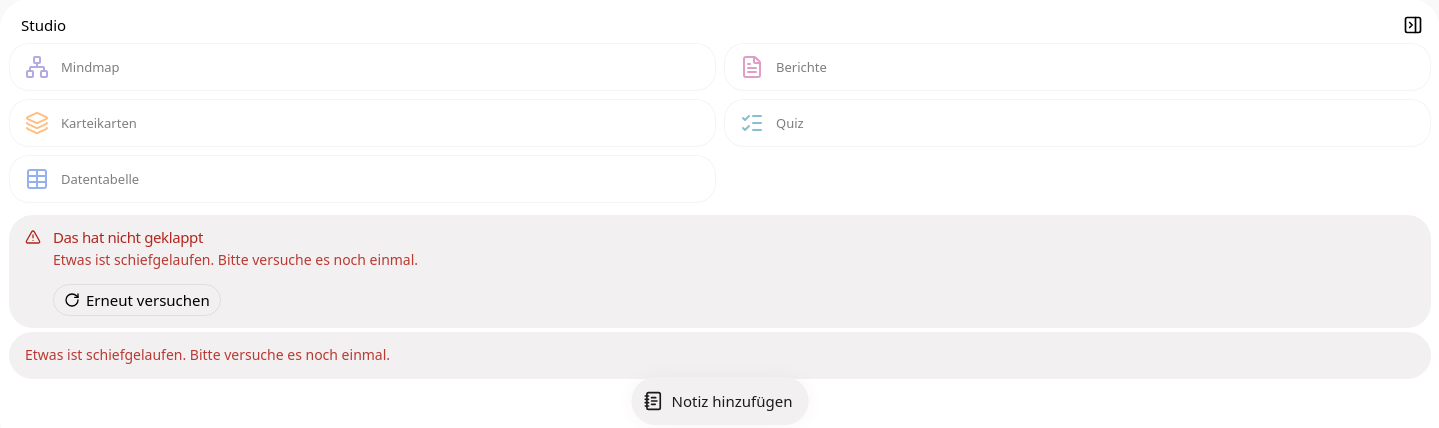
Test: StudioPanel › keeps the tooltip of a tile that cannot be used yet
The image size is (1439, 428).
Hover over the element showing "Mindmap": (362,67) [9,43,716,91]
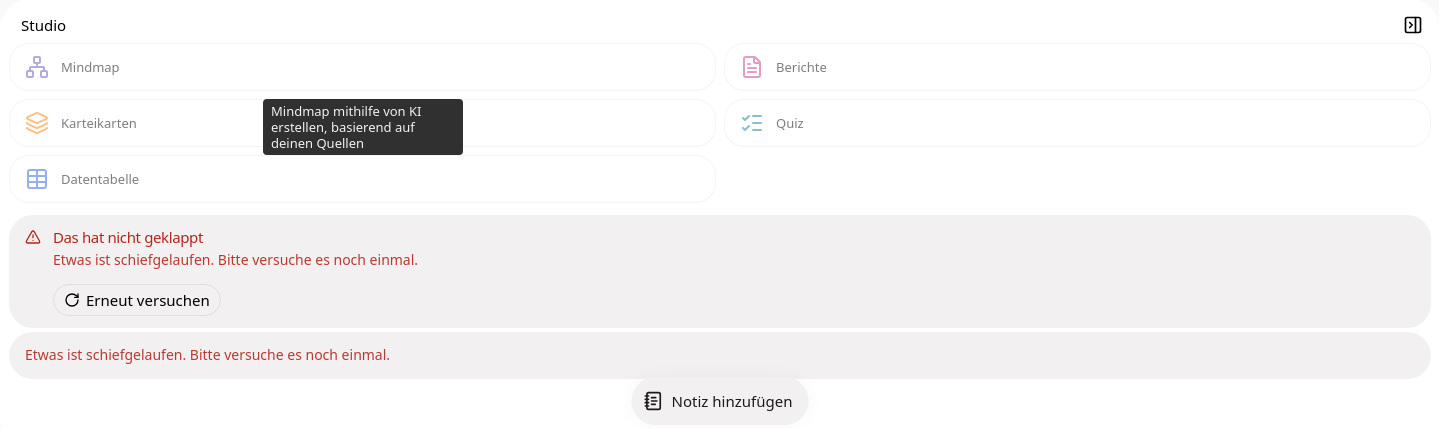
Result: the tooltip "Mindmap mithilfe von KI erstellen" is shown at [271,102,422,152]
